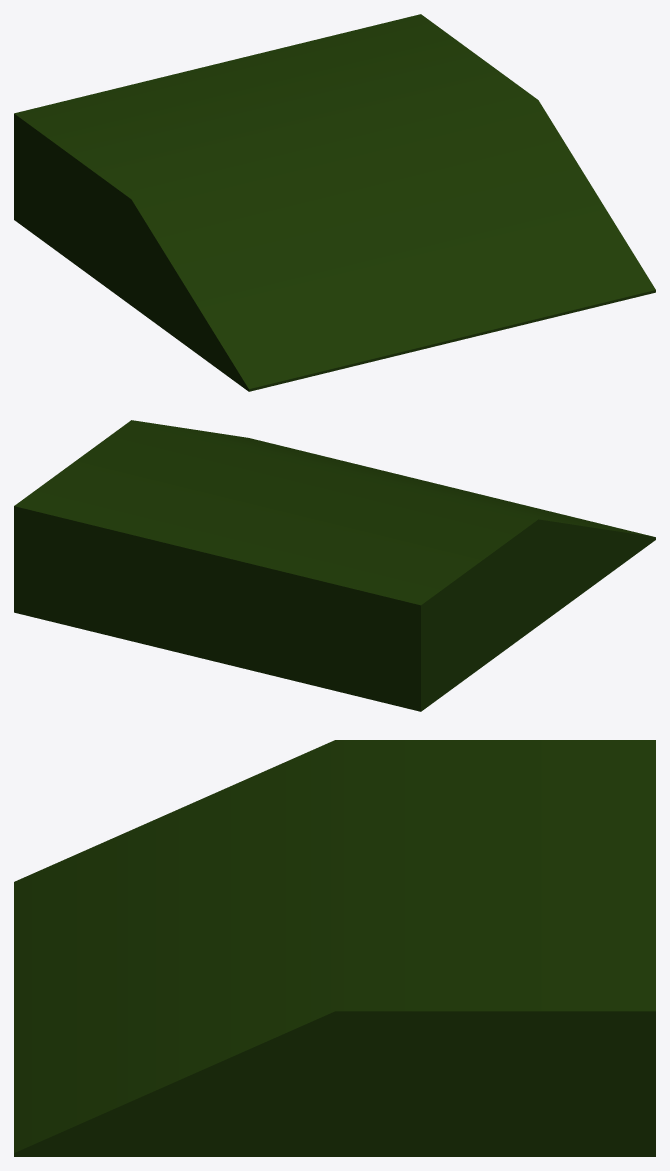
The model's file is uniformedTile-04_col.fbx.
3 renders of one model, top to bottom at view 1: azimuth 30°, elevation 25°; view 2: azimuth 150°, elevation 25°; view 3: azimuth 270°, elevation 25°, orthographic. The views are drawn at different scales.
Parts seen in each view (by area): view 1: uniformedTile-04.col; view 2: uniformedTile-04.col; view 3: uniformedTile-04.col.
Boxes of the visible parts, box(x1,y1,x2,y2) form: uniformedTile-04.col: box(14, 14, 655, 391); uniformedTile-04.col: box(14, 420, 655, 711); uniformedTile-04.col: box(14, 740, 655, 1156).
Bounding box in the file's own units: 2 × 0.5 × 2.
1 material, 1 textured.
